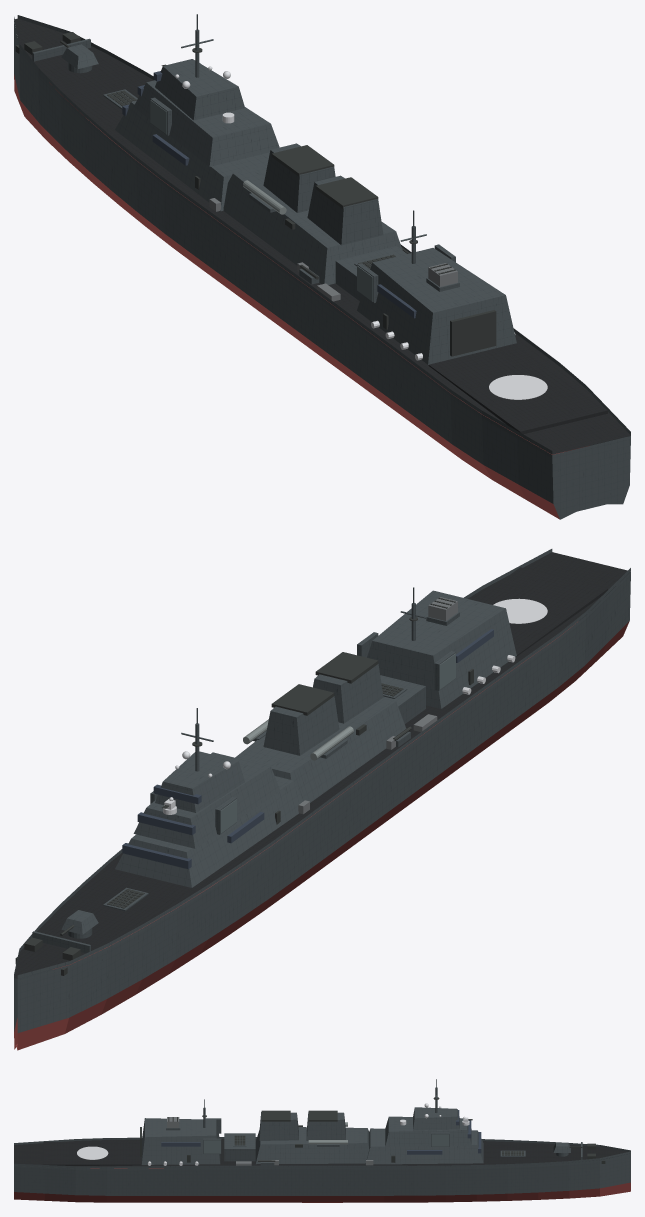
The model's file is type_052d.glb.
3 renders of one model, top to bottom at view 1: azimuth 30°, elevation 25°; view 2: azimuth 150°, elevation 25°; view 3: azimuth 270°, elevation 25°, orthographic. The views are drawn at different scales.
Visible parts, largest first — view 1: 052d_hull; view 2: 052d_hull; view 3: 052d_hull.
Boxes of the visible parts, x1,y1,x2,y2 form: 052d_hull: (14,14,630,519); 052d_hull: (14,549,630,1050); 052d_hull: (14,1079,630,1202).
Bounding box in the file's own units: 17.19 × 33.19 × 157.
3 materials, 3 textured.
